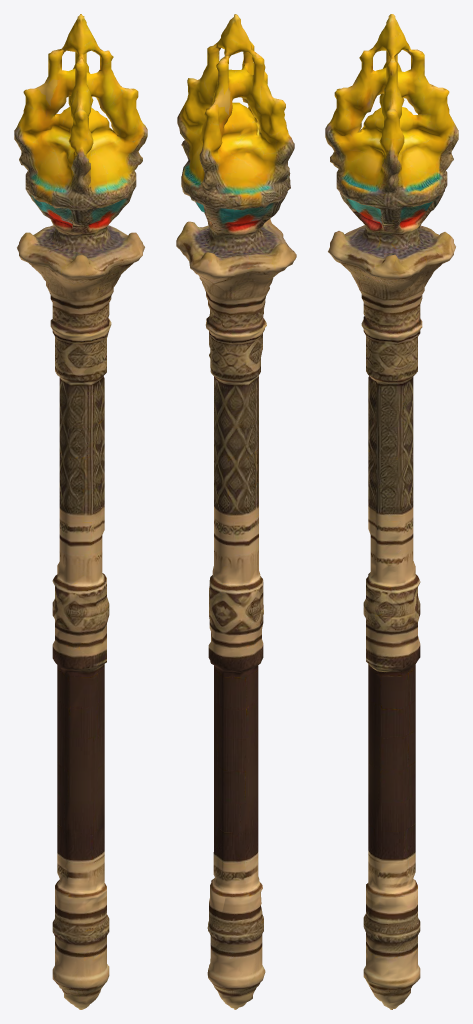
File: Staff.glb
3 views of the same model, side by side, from view 1: azimuth 90°, elevation 25°; view 2: azimuth 150°, elevation 25°; view 3: azimuth 270°, elevation 25° (orthographic).
Bounding box in the file's own units: 0.2309 × 1.91 × 0.2309.
Materials: 1 (1 with a texture image).
